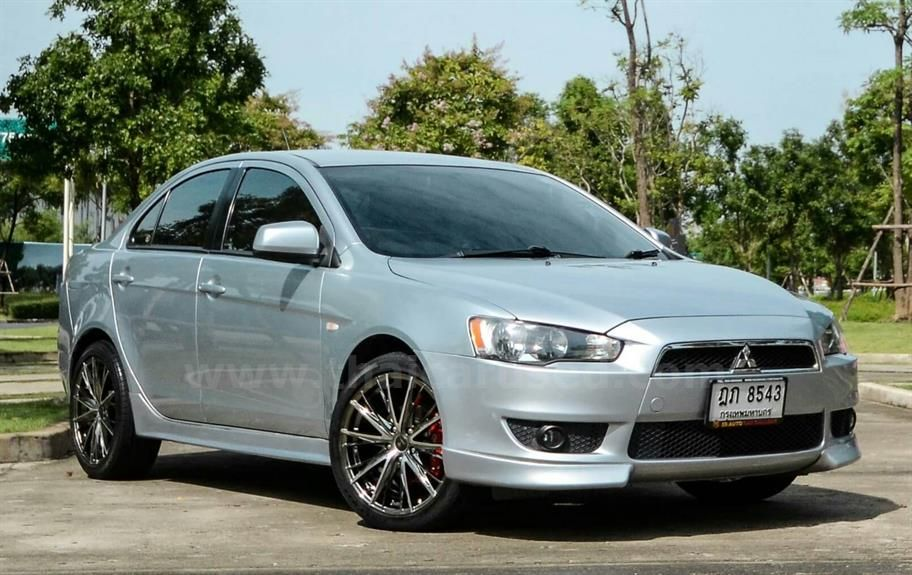sedan: (53, 147, 864, 530)
